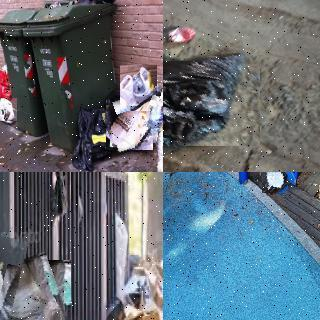Garbage: (163, 50, 264, 156), (0, 255, 81, 320), (102, 96, 157, 154), (120, 65, 157, 111), (146, 88, 163, 135), (260, 172, 286, 194), (0, 97, 17, 121)
